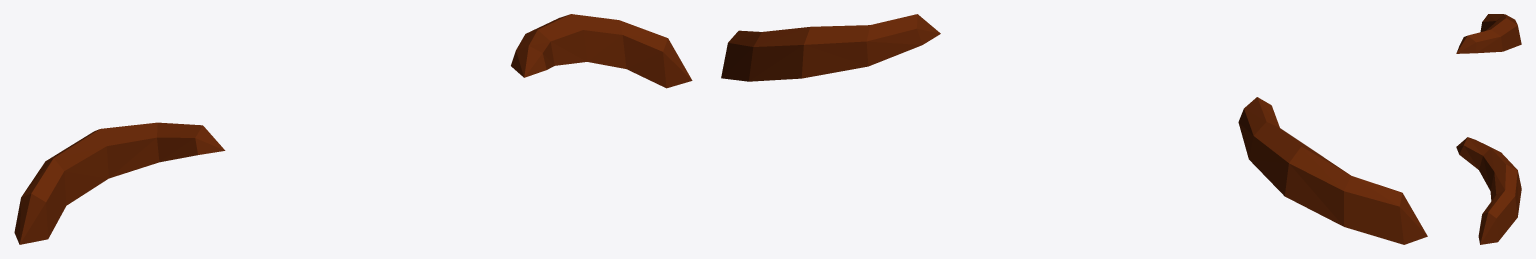
Rendered from Eyes 04.FBX.
3 views of the same model, side by side, from view 1: azimuth 30°, elevation 25°; view 2: azimuth 150°, elevation 25°; view 3: azimuth 270°, elevation 25° (orthographic). The views are drawn at different scales.
Parts seen in each view (by area): view 1: Eyes 04; view 2: Eyes 04; view 3: Eyes 04.
Part boxes in pixels (<box>): Eyes 04: <box>14,14,692,244</box>; Eyes 04: <box>721,14,1427,244</box>; Eyes 04: <box>1456,14,1521,244</box>.
Size of the model in its own units: 19.35 by 2.56 by 2.32.
